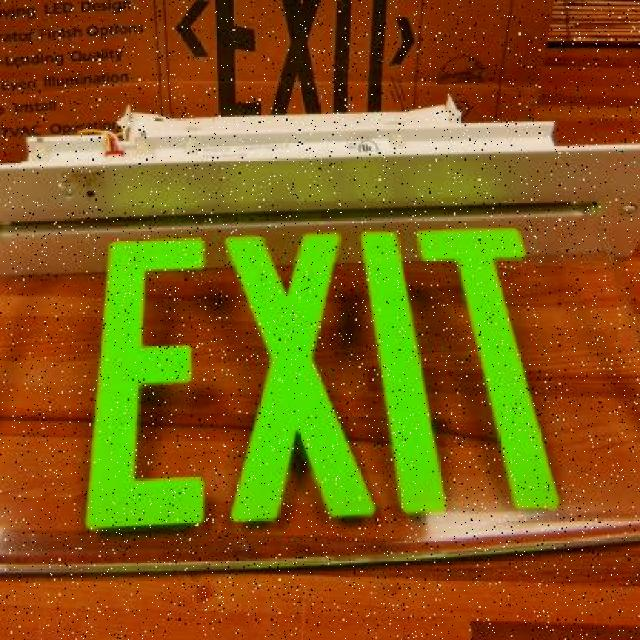emergency_exit: (2, 134, 638, 594), (82, 220, 564, 537)
